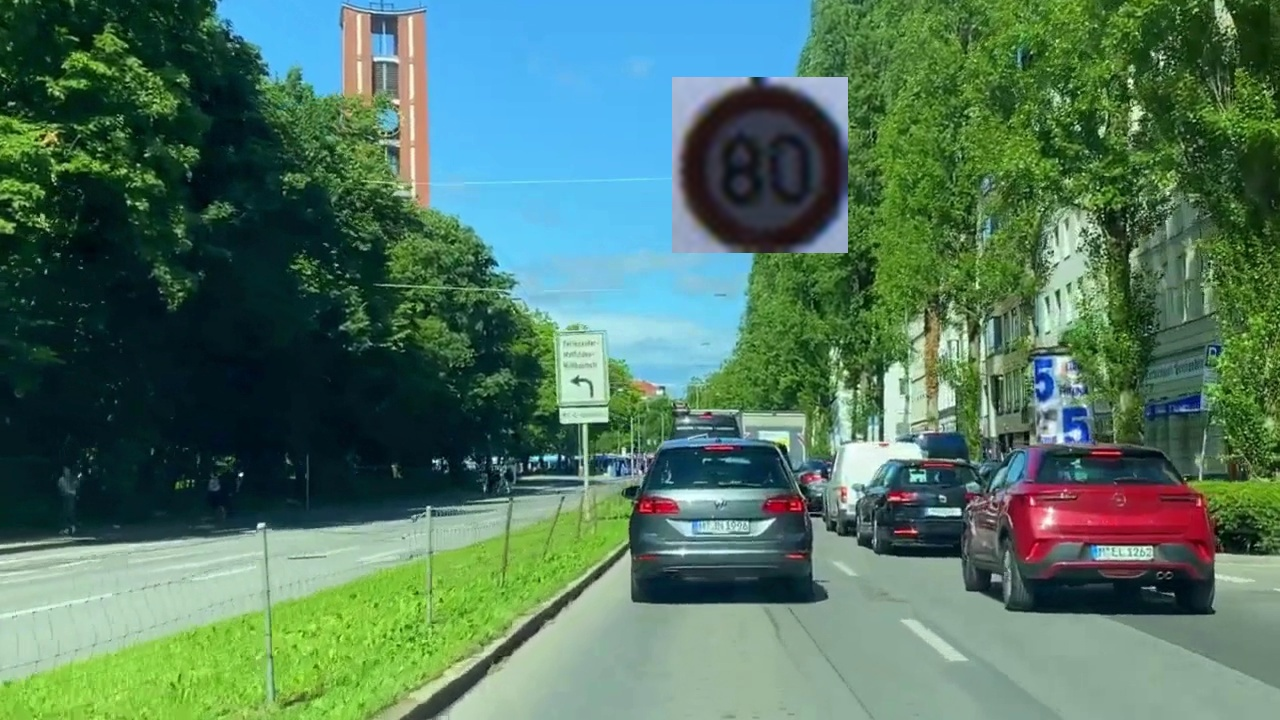Speed 80: (672, 77, 848, 253)
